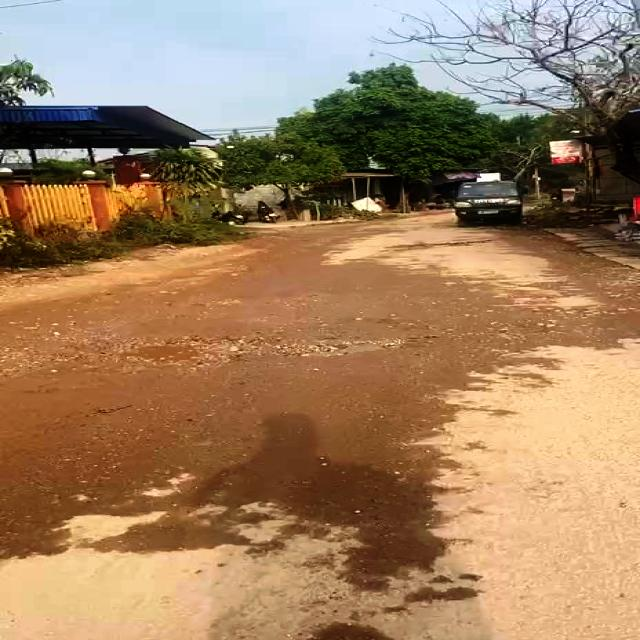pothole: (106, 332, 276, 371), (293, 332, 427, 357)
